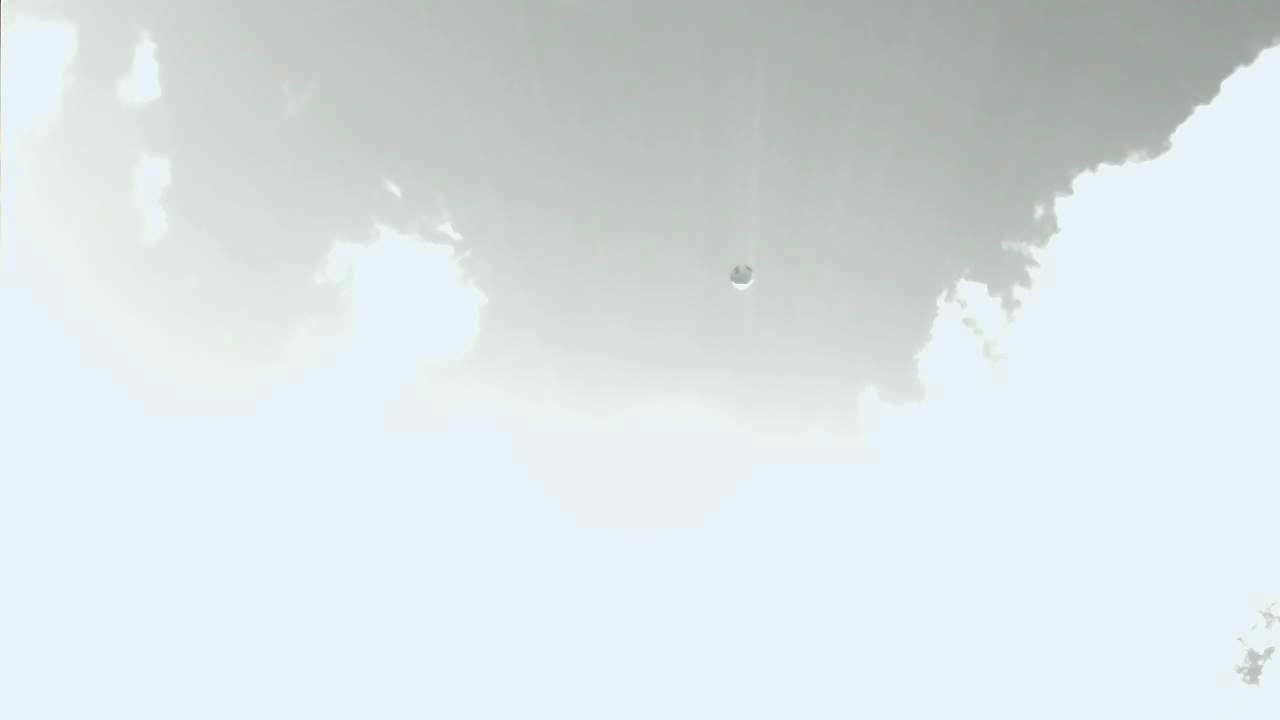Football-Spotter: (729, 265, 753, 289)
